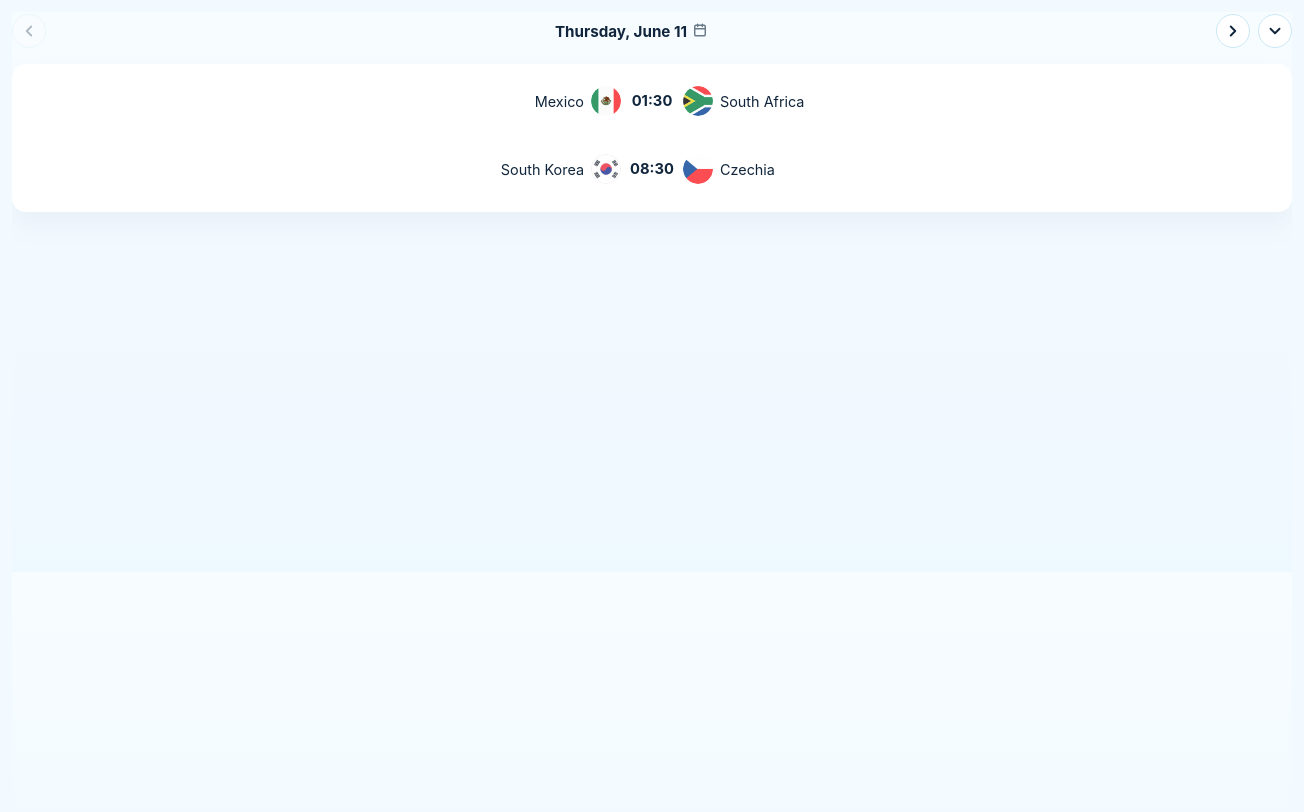
filters fixtures to the selected group
The width and height of the screenshot is (1304, 812).
Click the button named "Filter options" at coordinates (1275, 31), box [1258,14,1292,48]
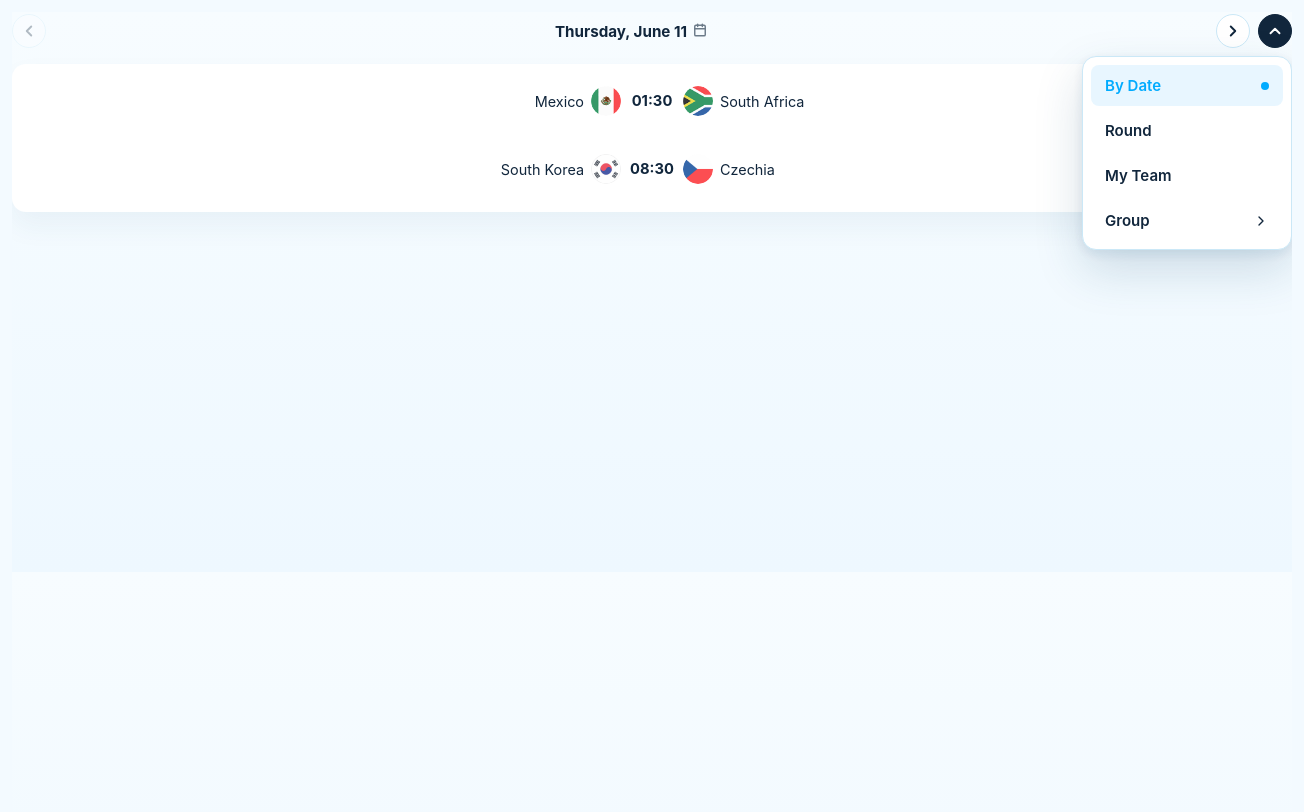
Click the menu item "Group" at coordinates (1187, 220), box [1091,200,1283,241]
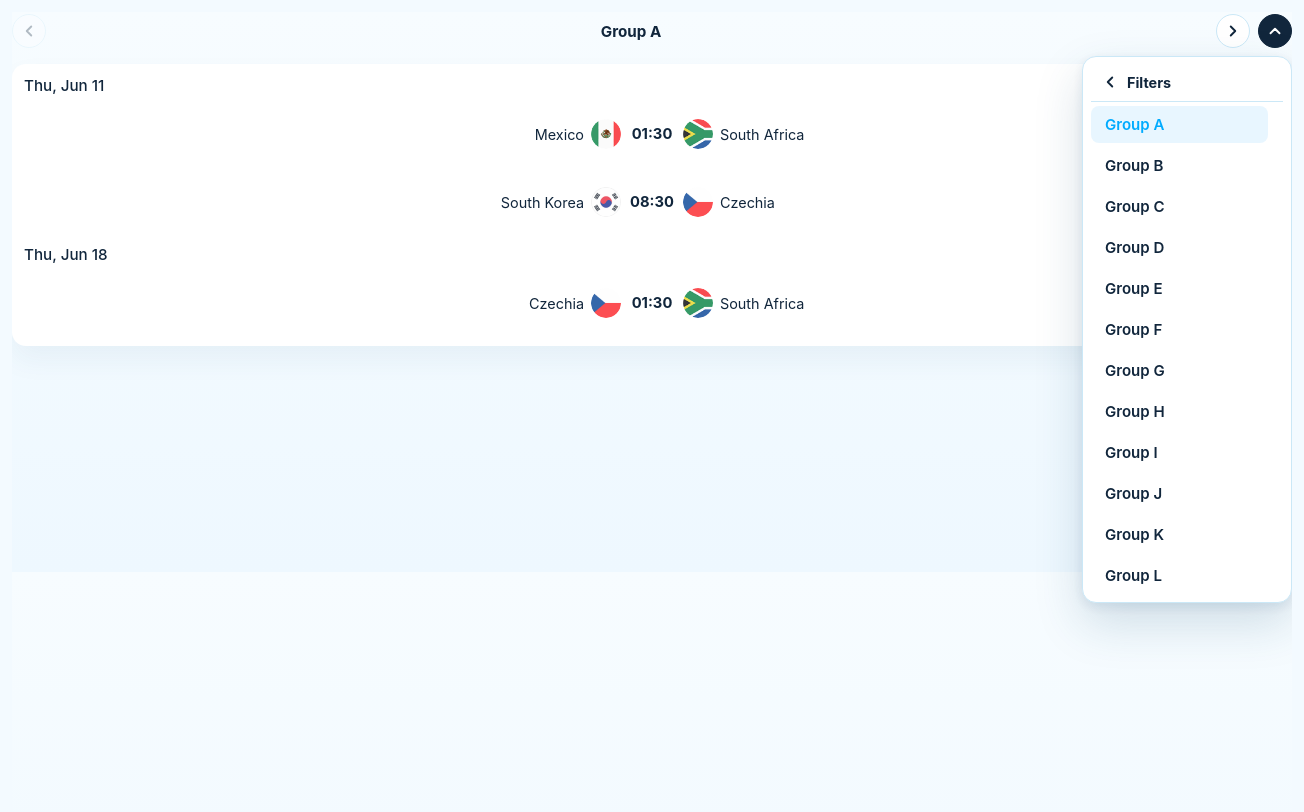
Click the option "Group B" at coordinates (1180, 166), box [1091,147,1268,184]
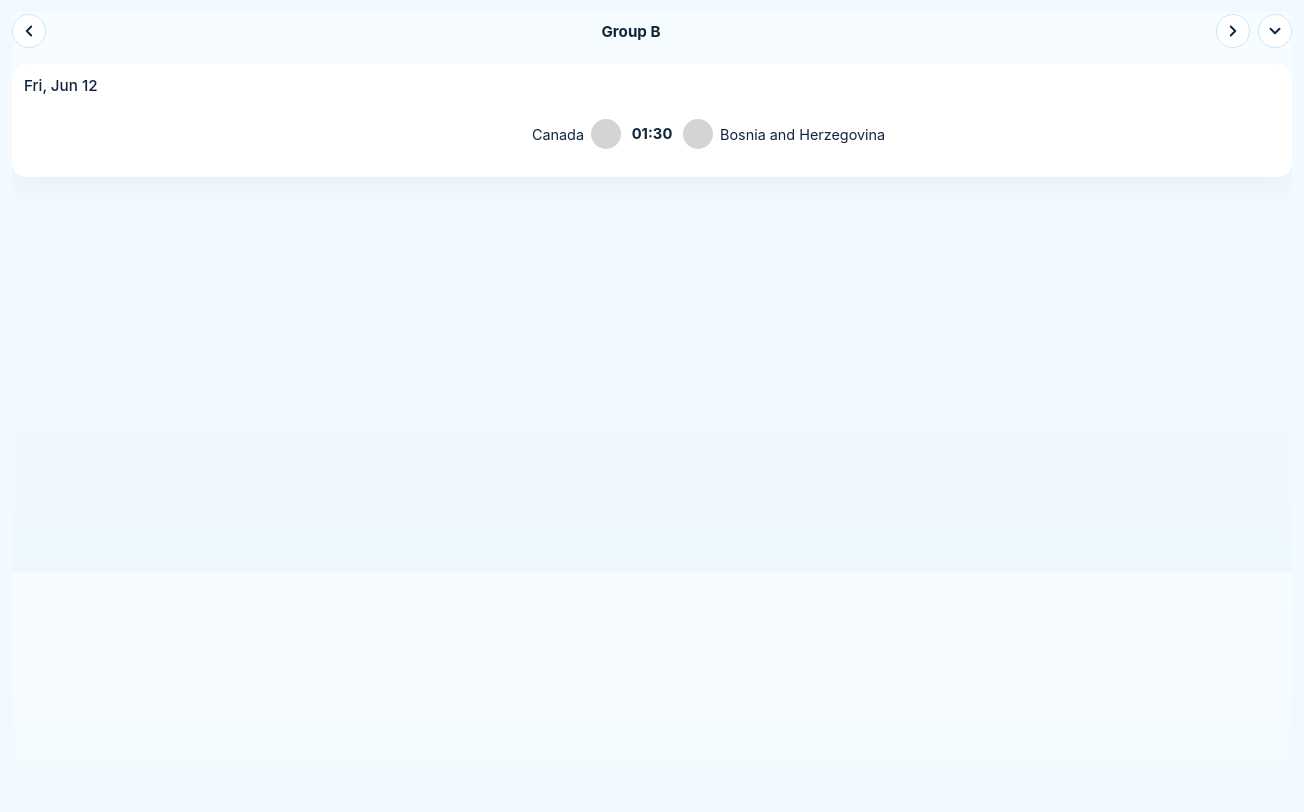
Now the text "Group B" is shown, box [601,22,661,40]
Now the text "Canada" is shown, box [532,126,584,142]
Now the text "Bosnia and Herzegovina" is shown, box [720,126,885,142]
